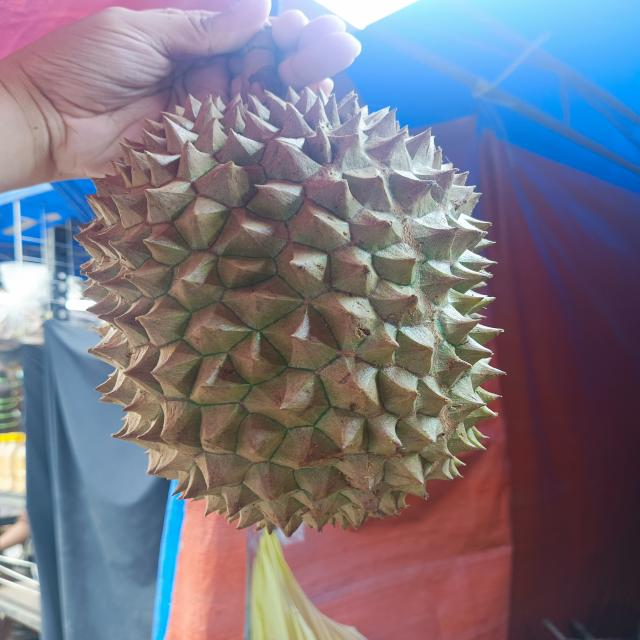mature: (80, 84, 504, 535)
